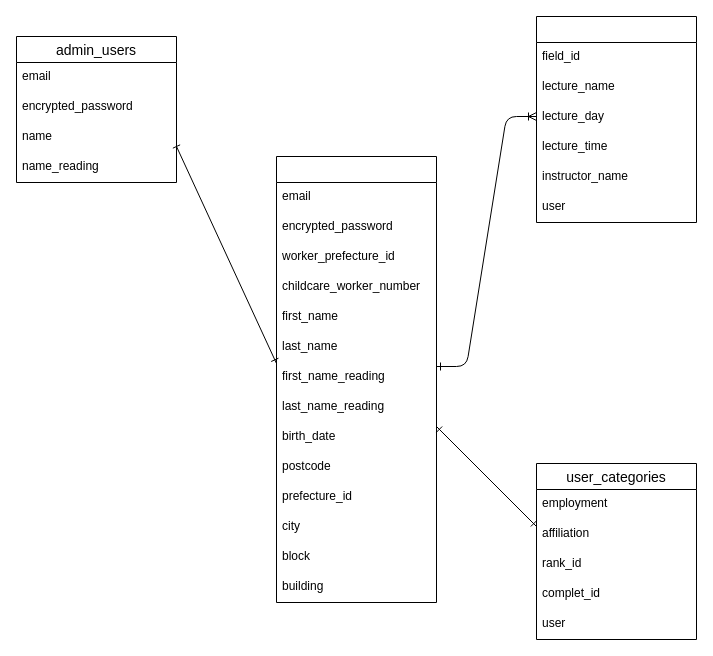
This 713x656 diagram has some shape labels left out. Each missing label, with the box of its shape:
lectures: (536, 16, 696, 222)
users: (276, 156, 436, 602)
